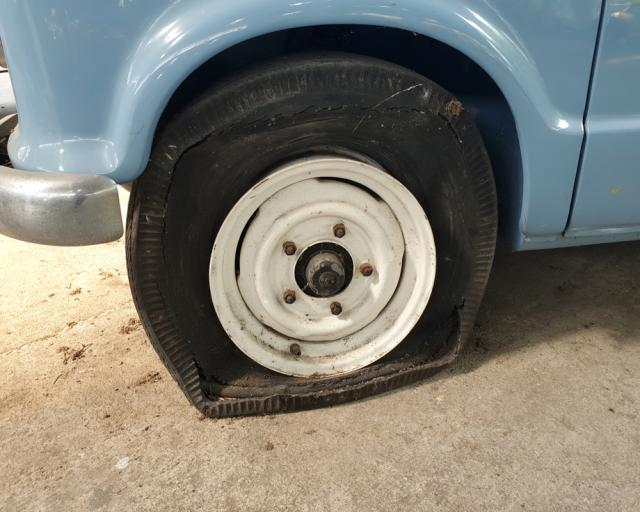tire flat: (124, 49, 500, 417)
